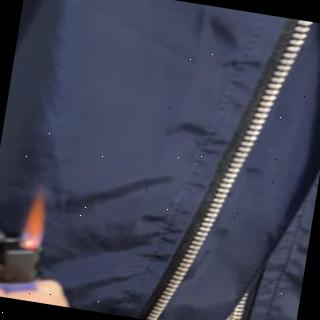fire: (21, 196, 54, 254)
